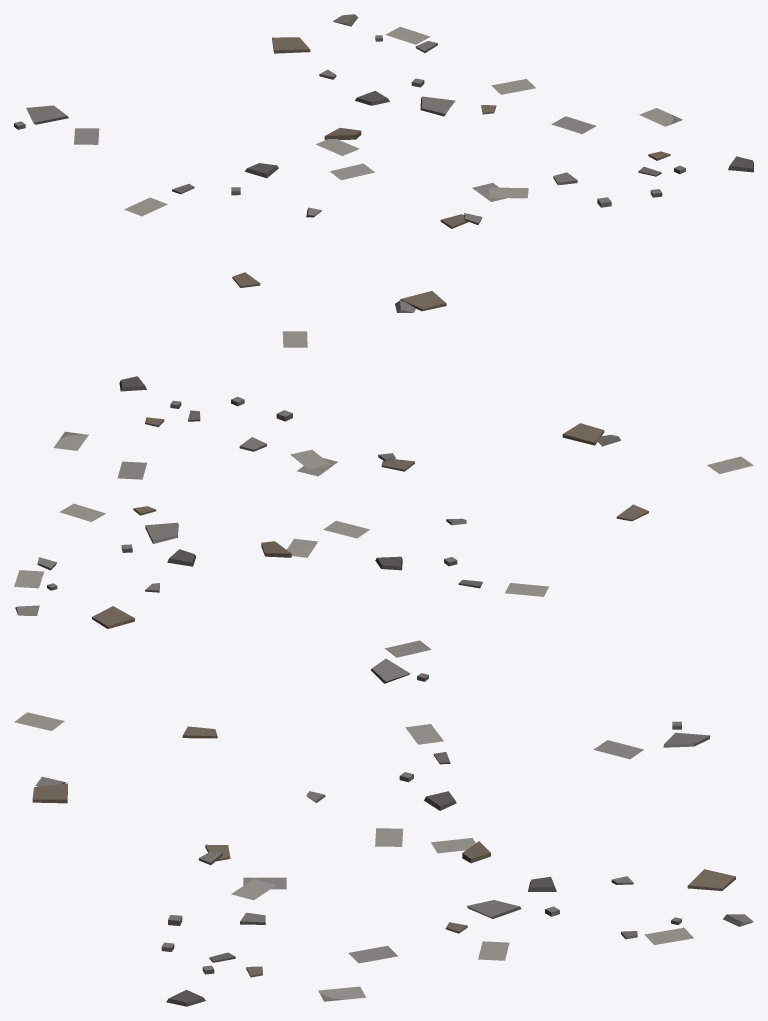
Rendered from AI_Env_GroundDirt_04.fbx.
3 renders of one model, top to bottom at view 1: azimuth 30°, elevation 25°; view 2: azimuth 150°, elevation 25°; view 3: azimuth 270°, elevation 25°, orthographic. The views are drawn at different scales.
Visible parts, largest first — view 1: AI_Env_GroundDirt_04; view 2: AI_Env_GroundDirt_04; view 3: AI_Env_GroundDirt_04.
Boxes of the visible parts, x1=… form: AI_Env_GroundDirt_04: x1=14, y1=14, x2=753, y2=347; AI_Env_GroundDirt_04: x1=14, y1=376, x2=753, y2=683; AI_Env_GroundDirt_04: x1=14, y1=712, x2=753, y2=1006.
Bounding box in the file's own units: 8.74 × 0.1107 × 9.28.
